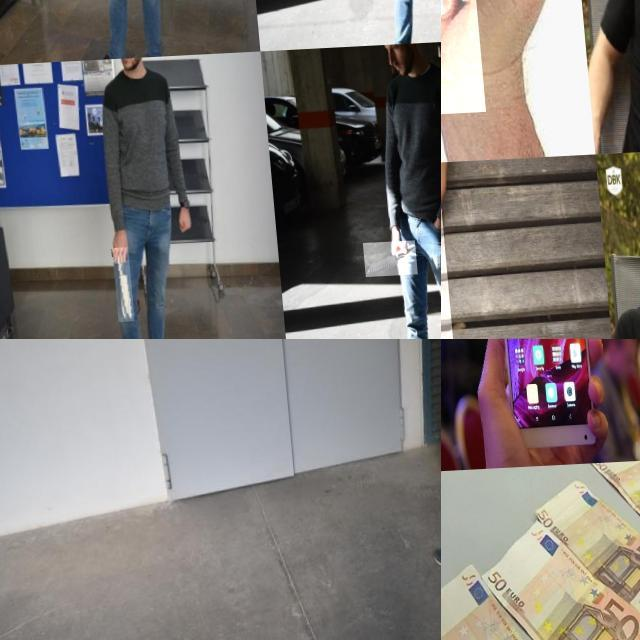-: (441, 0, 549, 122), (441, 210, 481, 339), (353, 246, 408, 282), (103, 249, 124, 324), (77, 0, 107, 35), (392, 0, 415, 29), (345, 339, 380, 350)
